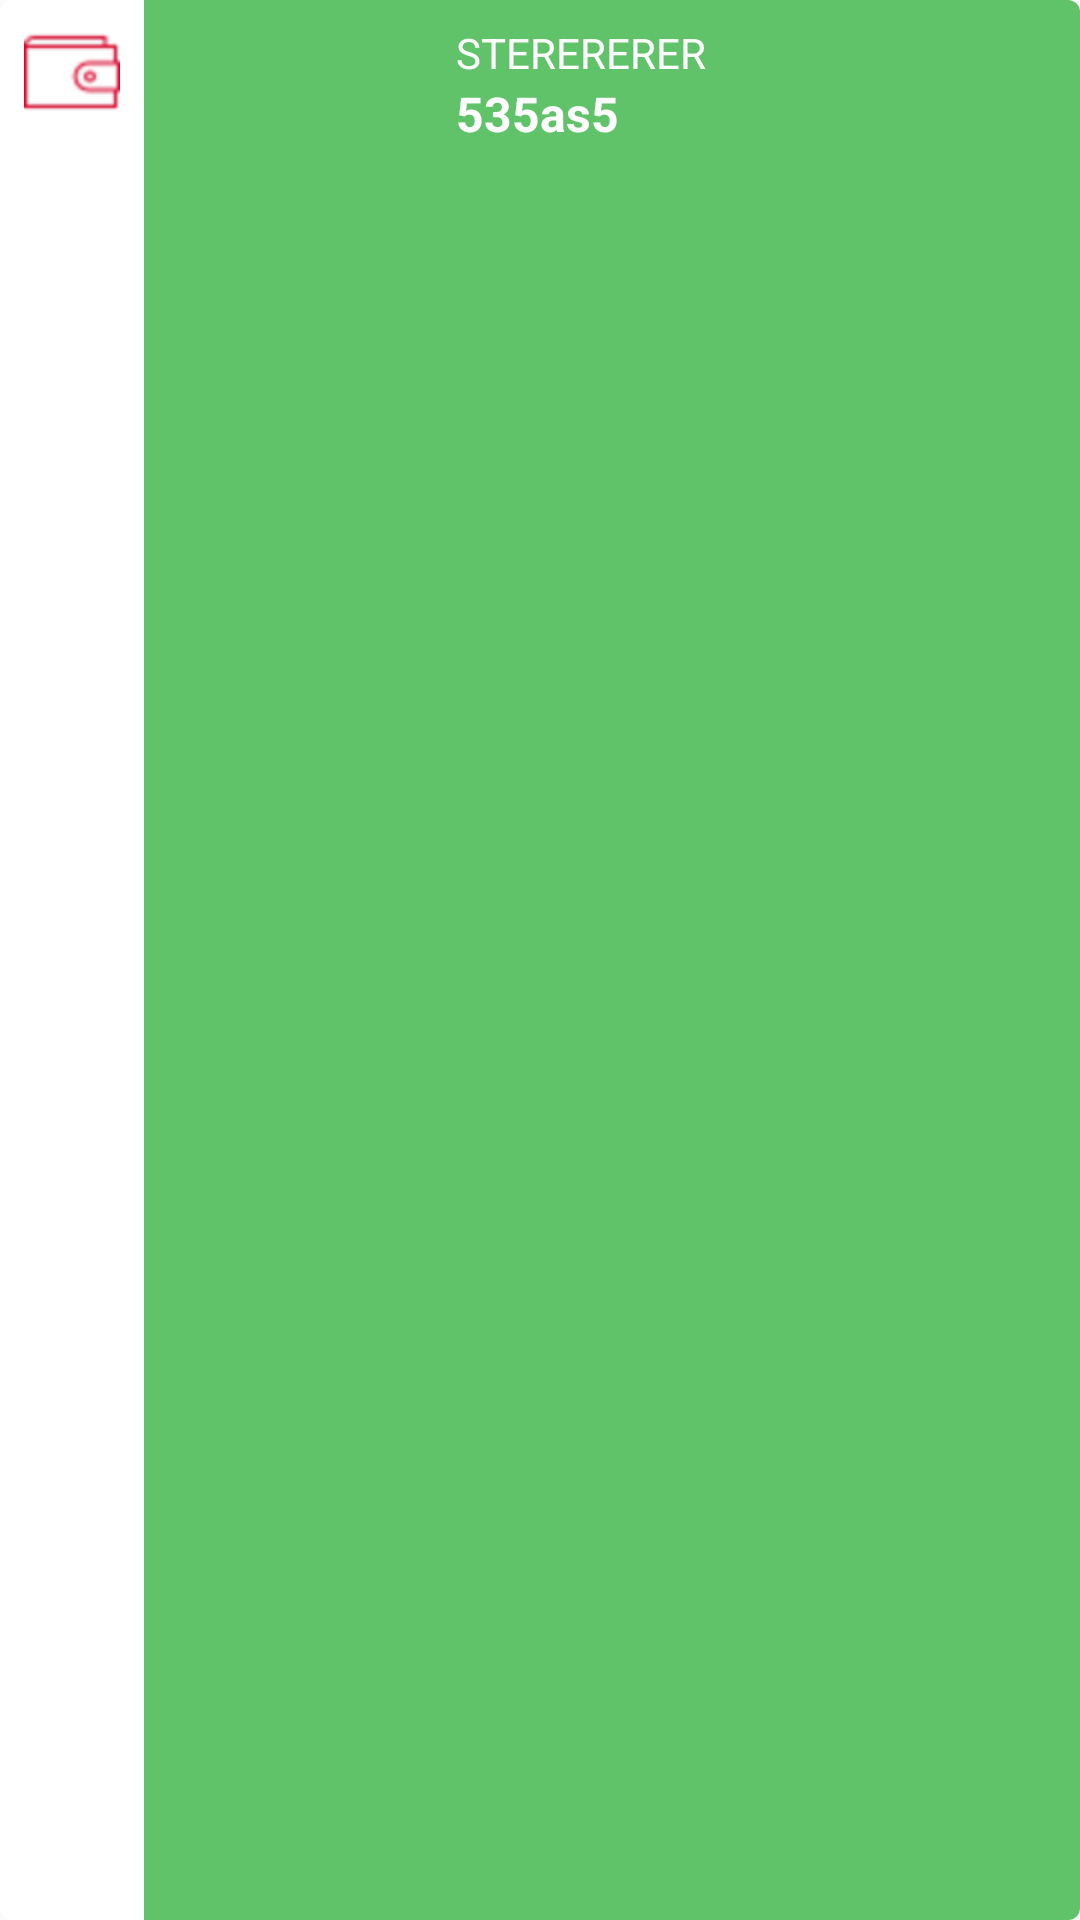

Where to tap for icons on this 1080*1920 app screen, as (x=x, y=y):
wallet: (x=72, y=72)
